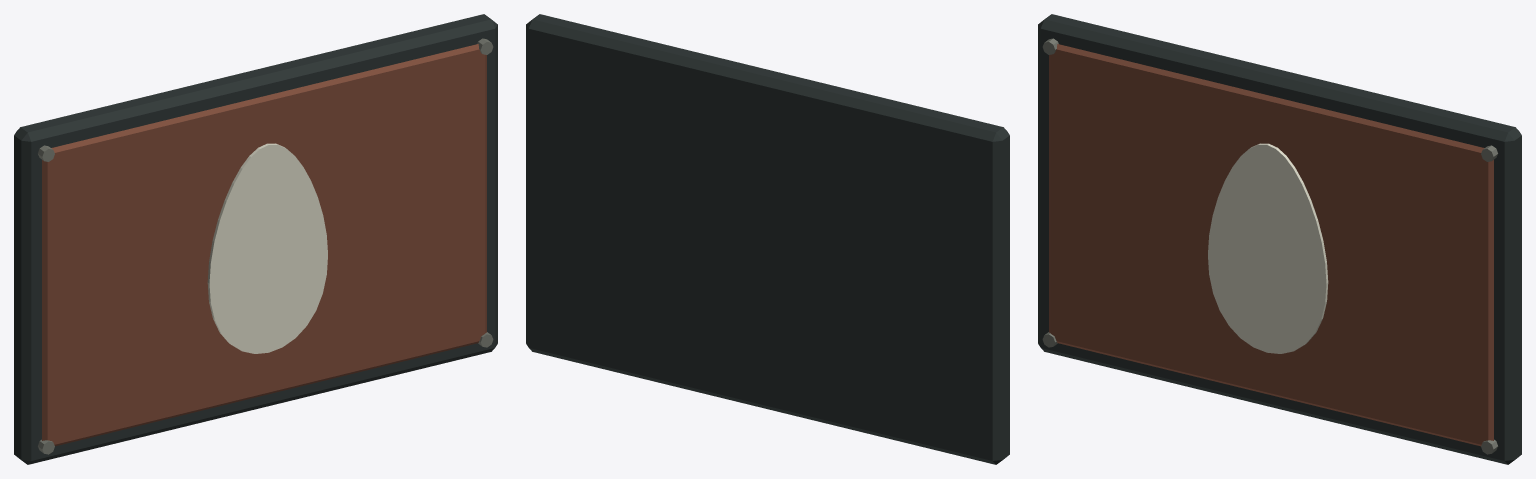
File: SM_Henhouse_Sign_Coop_A.fbx
3 renders of one model, left to right at view 1: azimuth 30°, elevation 25°; view 2: azimuth 150°, elevation 25°; view 3: azimuth 330°, elevation 25°, orthographic.
Parts seen in each view (by area): view 1: SM_Henhouse_Sign_Coop_A; view 2: SM_Henhouse_Sign_Coop_A; view 3: SM_Henhouse_Sign_Coop_A.
Boxes of the visible parts, x1=… form: SM_Henhouse_Sign_Coop_A: x1=14, y1=14, x2=497, y2=464; SM_Henhouse_Sign_Coop_A: x1=526, y1=14, x2=1009, y2=464; SM_Henhouse_Sign_Coop_A: x1=1038, y1=14, x2=1521, y2=464.
Size of the model in its own units: 4.4 by 60 by 40.
